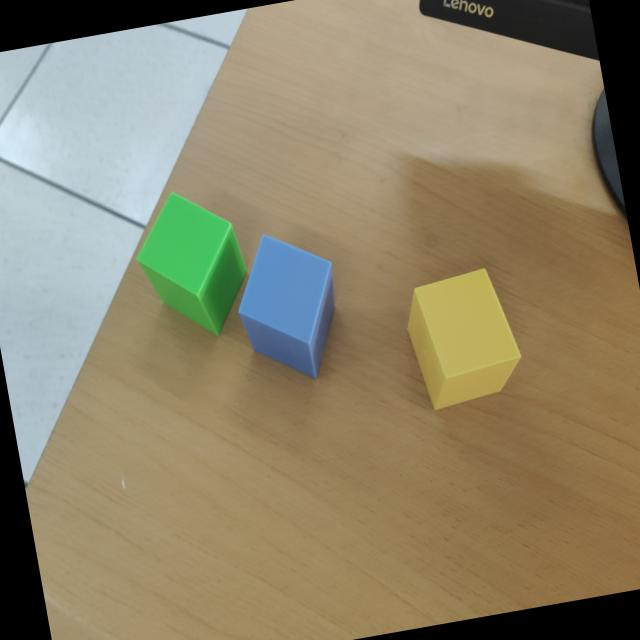blue: (239, 236, 335, 379)
green: (134, 195, 249, 336)
yellow: (406, 269, 521, 412)
